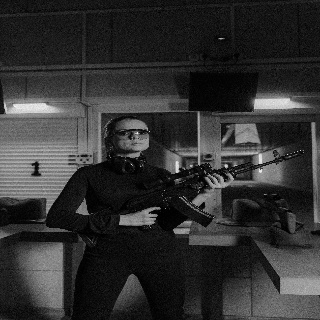rifle: (113, 149, 305, 230)
